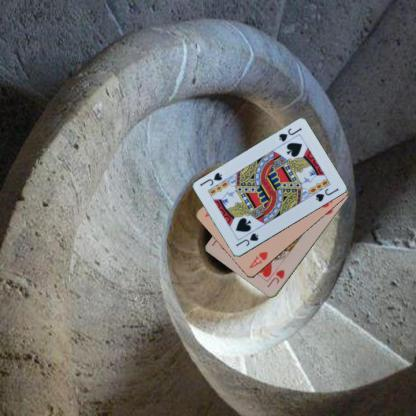Ah: (247, 249, 269, 270)
Jh: (264, 267, 286, 289)
Js: (276, 126, 303, 144), (233, 230, 259, 248)
